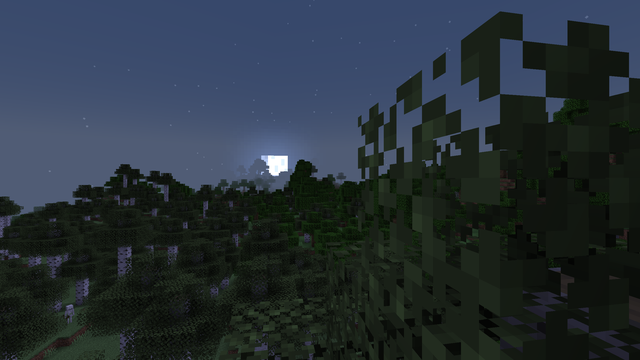squelettes: (64, 304, 74, 323)
